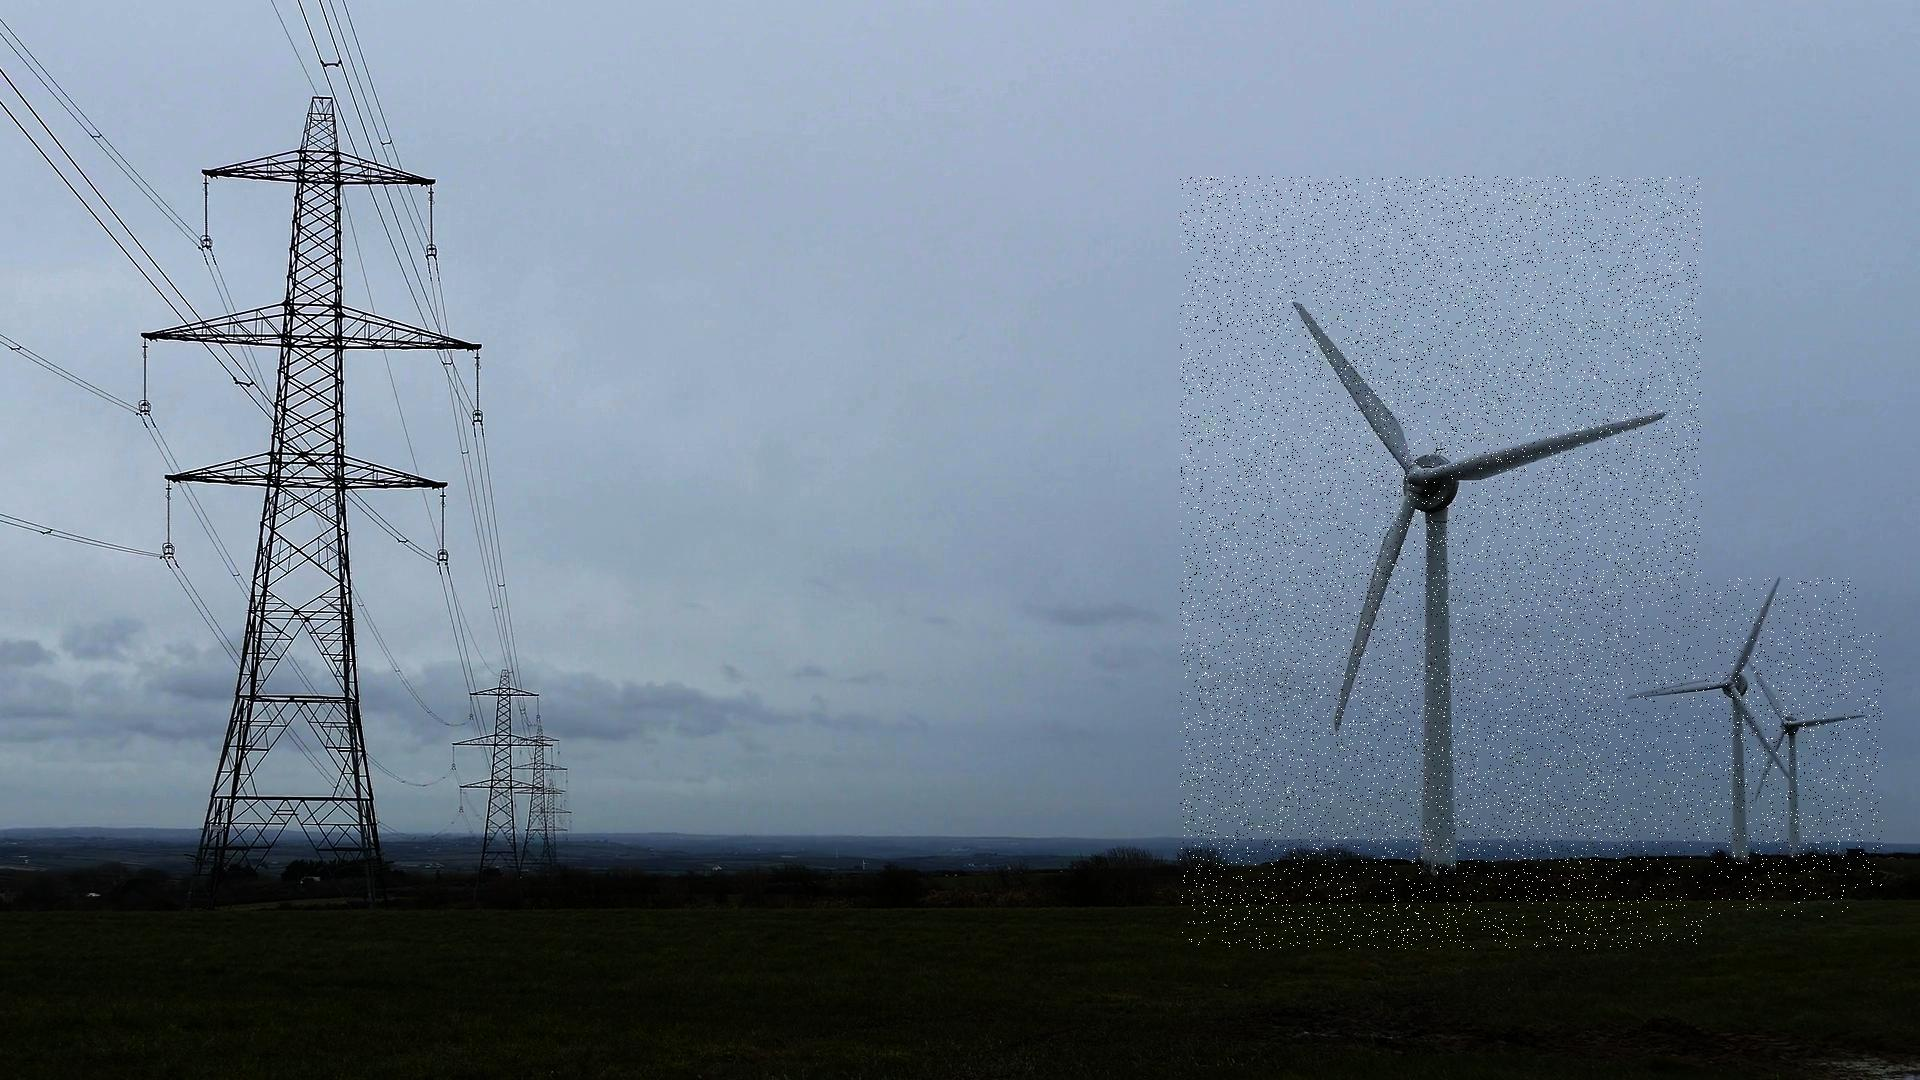cable tower: (129, 94, 488, 909), (447, 669, 550, 902), (512, 725, 568, 878), (531, 779, 572, 864)
turbine: (1180, 175, 1702, 949), (1627, 579, 1857, 918), (1727, 633, 1883, 887)
